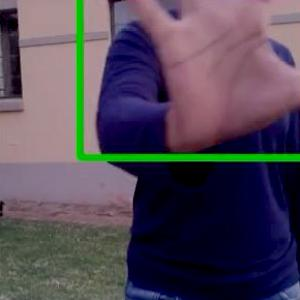follow_hand: (123, 0, 299, 161)
